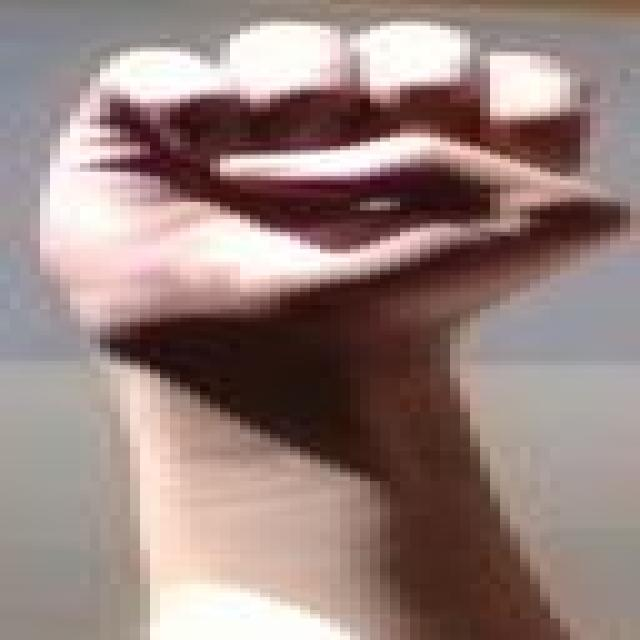E: (4, 4, 640, 364)
